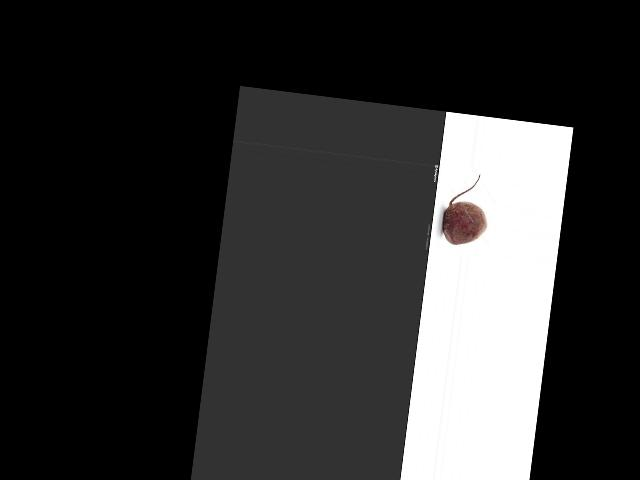beet: (440, 171, 492, 248)
